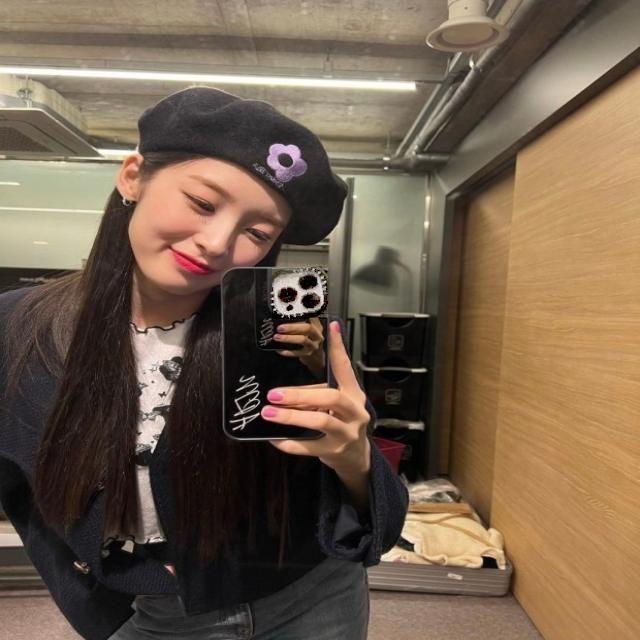phone: (219, 262, 337, 443)
